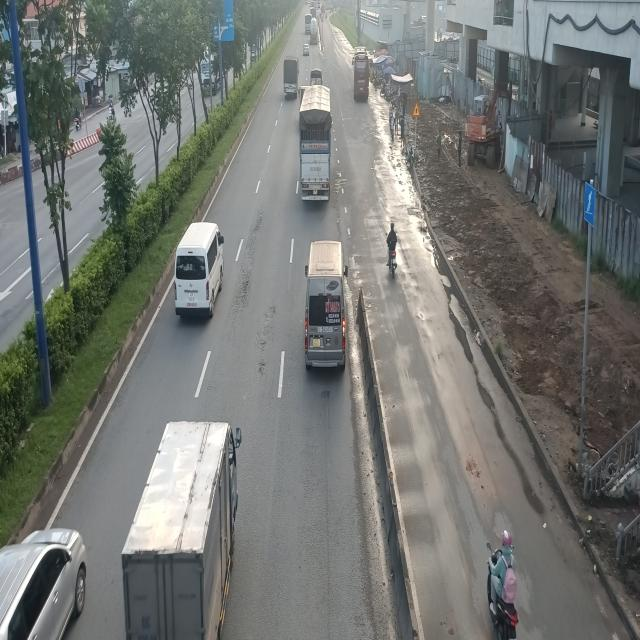car: (121, 421, 241, 640), (0, 524, 86, 638)
coach: (353, 48, 369, 99)
truck: (304, 240, 352, 372), (297, 87, 332, 205), (282, 57, 298, 101)
van: (176, 224, 228, 322)
